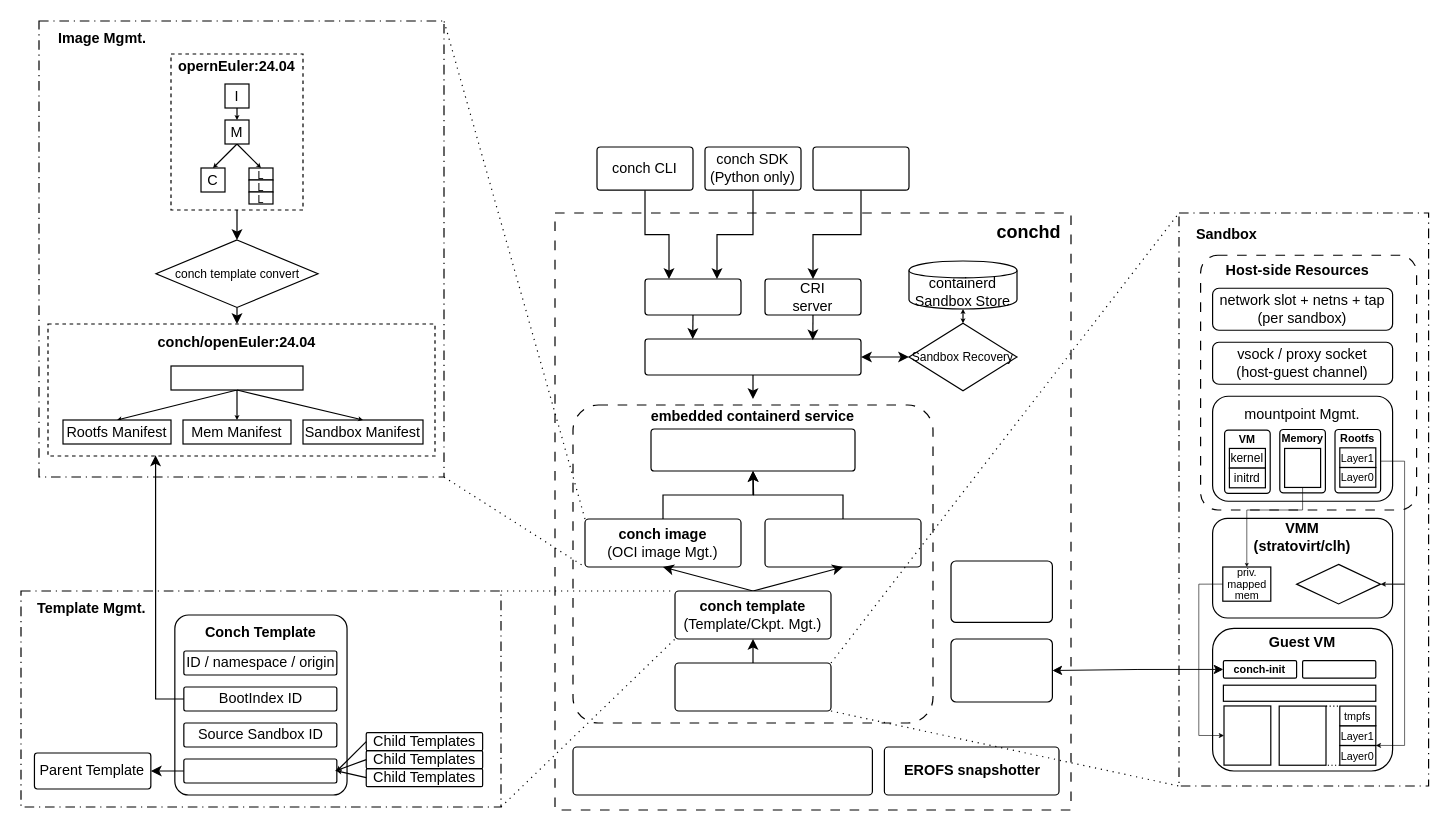
The diagram is 1452 pixels wide and 832 high, and some of its shapes have lost their labels. The shapes that lost their labels are listed below. From the top down, each one's centre as x and y in pixels, then its label:
At (860,168): "kubelet".
At (692,296): "HTTP API router".
At (752,356): "conchruntime.Service".
At (236,377): "Conch BootIndex".
At (752,449): "containerd built-in plugins (content/lease/erofs)".
At (1302,467): "mem image".
At (842,542): "conch snapshot (VMmem/rootfs Mgt.)".
At (1001,591): "Network Module (slot pool/CNI)".
At (1338,583): "virtio-pmem".
At (752,686): "conch sandbox (sandbox lifetime Mgt.)".
At (1001,670): "hostconn (vsock)".
At (1338,669): "user app".
At (1299,692): "guest kernel".
At (1247,735): "guest memory".
At (1302,735): "overlaid rootfs".
At (260,770): "Parent Template ID".
At (722,770): "containerd content store (OCI images / rootfs layers / memory files)".
